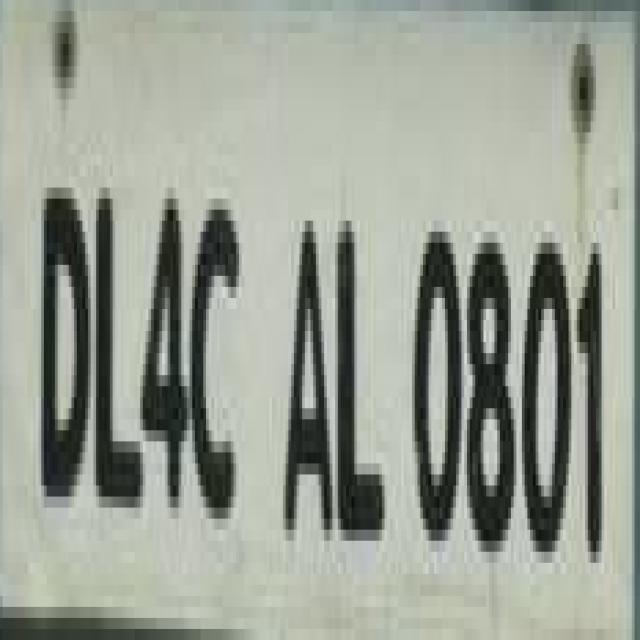license_plate: (0, 22, 604, 640)
